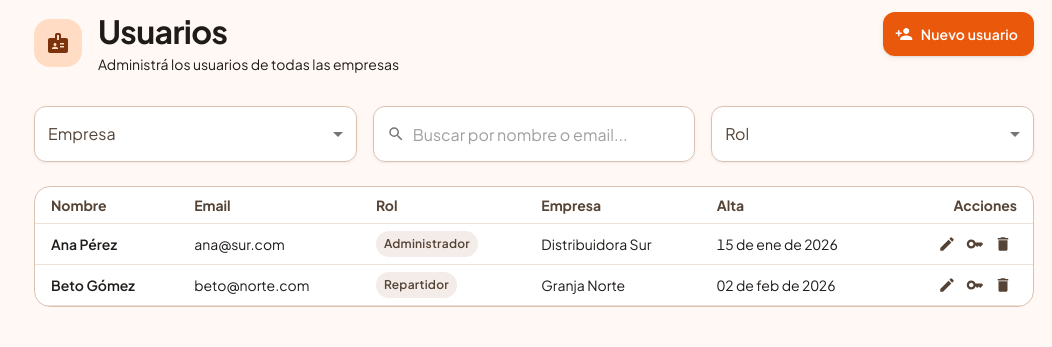
Scenario: PlatformUsersPage — platform-wide user manager › filters users by company through the company selector
The width and height of the screenshot is (1052, 347).
Expected: the text "Ana Pérez" is shown, [35,224,178,265]
Press the mouse on the 1st dropdown named "Empresa" at (195, 134), box [34,106,357,162]
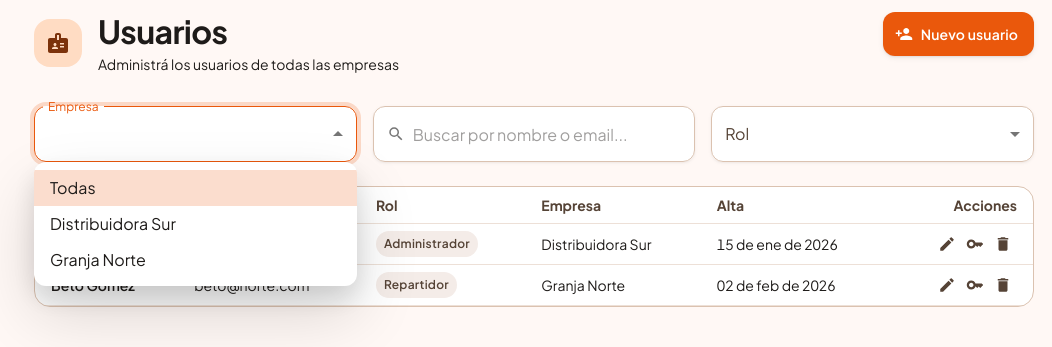
Click the option "Distribuidora Sur" at (113, 224), box [50,213,176,234]
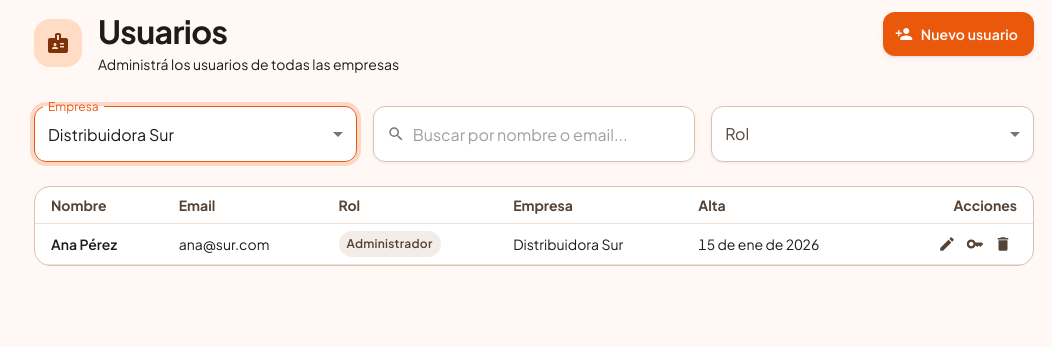
Expected: the text "Ana Pérez" is shown, [35,224,163,265]
Expected: the text "Beto Gómez" is gone
